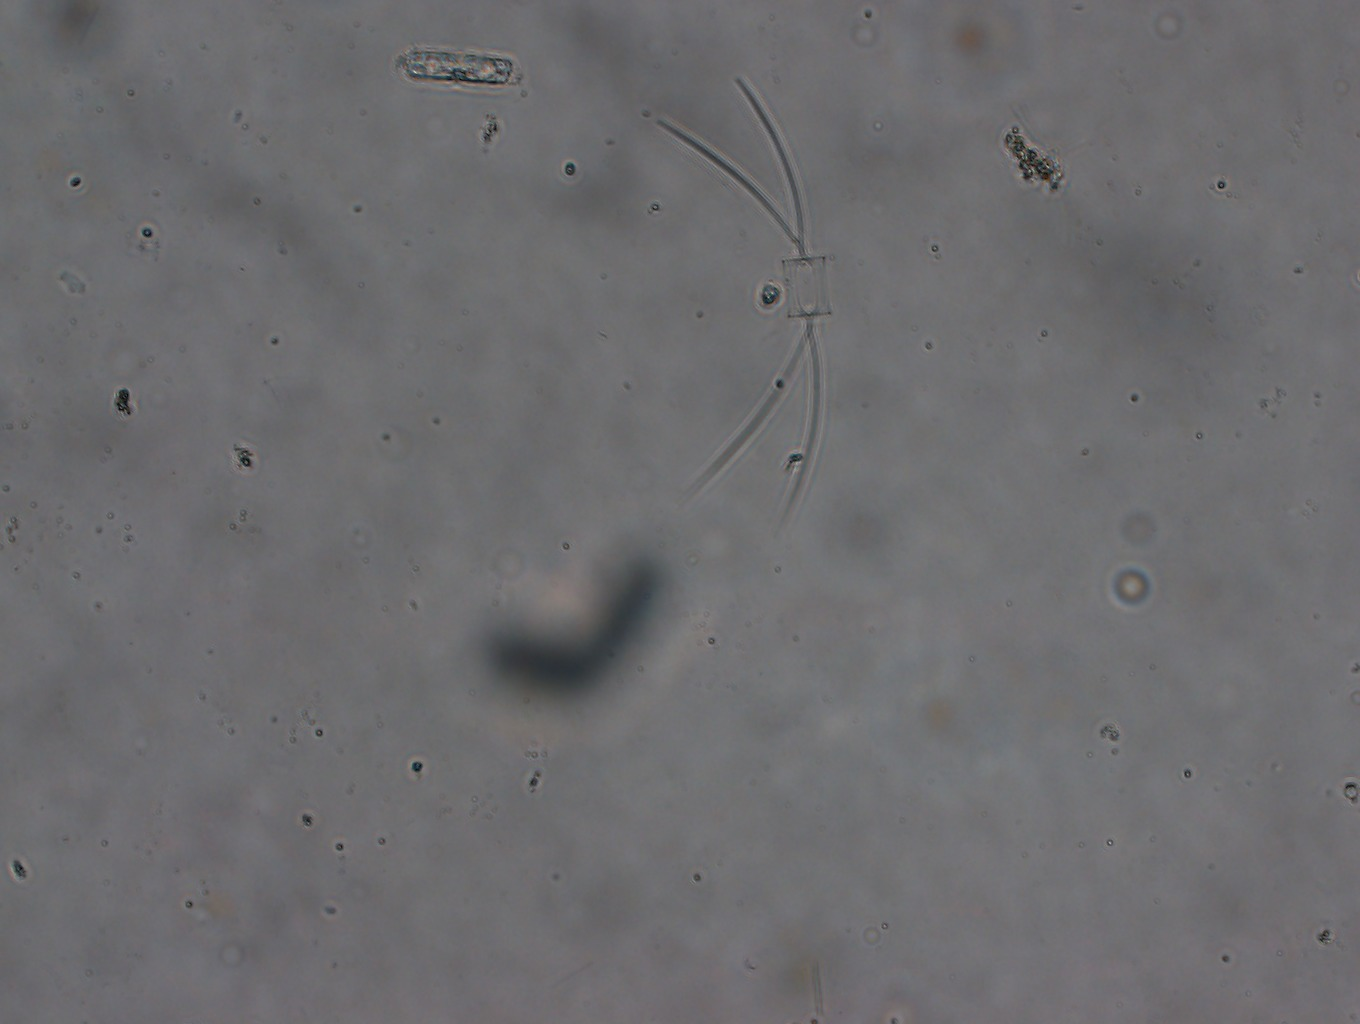chaetoceros: (657, 73, 831, 534)
